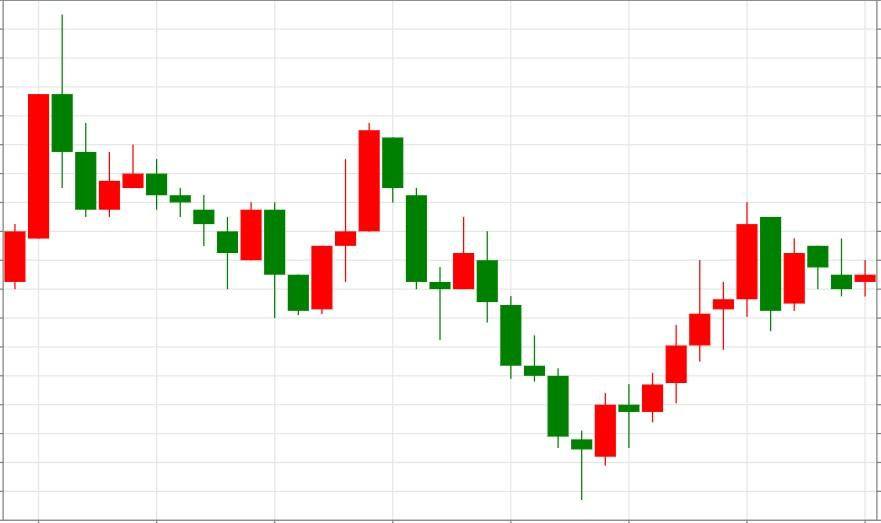bullish_engulfing_rise: (121, 143, 333, 319)
morning_star_rise: (357, 122, 618, 500)
